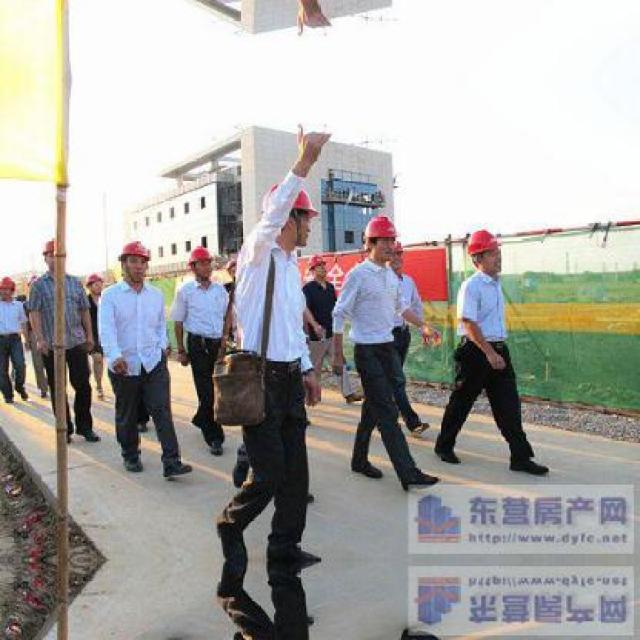helmet: (260, 177, 318, 248), (464, 225, 508, 282), (361, 211, 396, 260), (117, 239, 151, 284), (181, 244, 216, 279), (40, 237, 68, 274), (385, 235, 406, 272), (306, 252, 331, 280), (1, 275, 21, 300), (85, 270, 103, 293)
